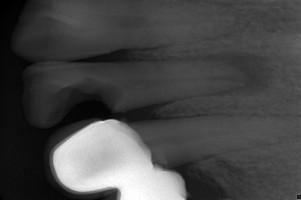Furcation Involvement: (202, 53, 273, 97)
